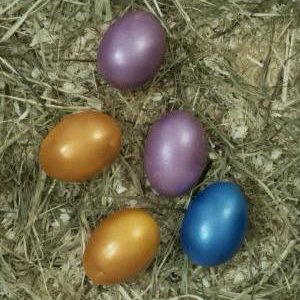egg: (180, 182, 248, 270), (82, 209, 159, 286), (40, 111, 123, 182), (144, 112, 209, 196), (99, 11, 167, 87)
